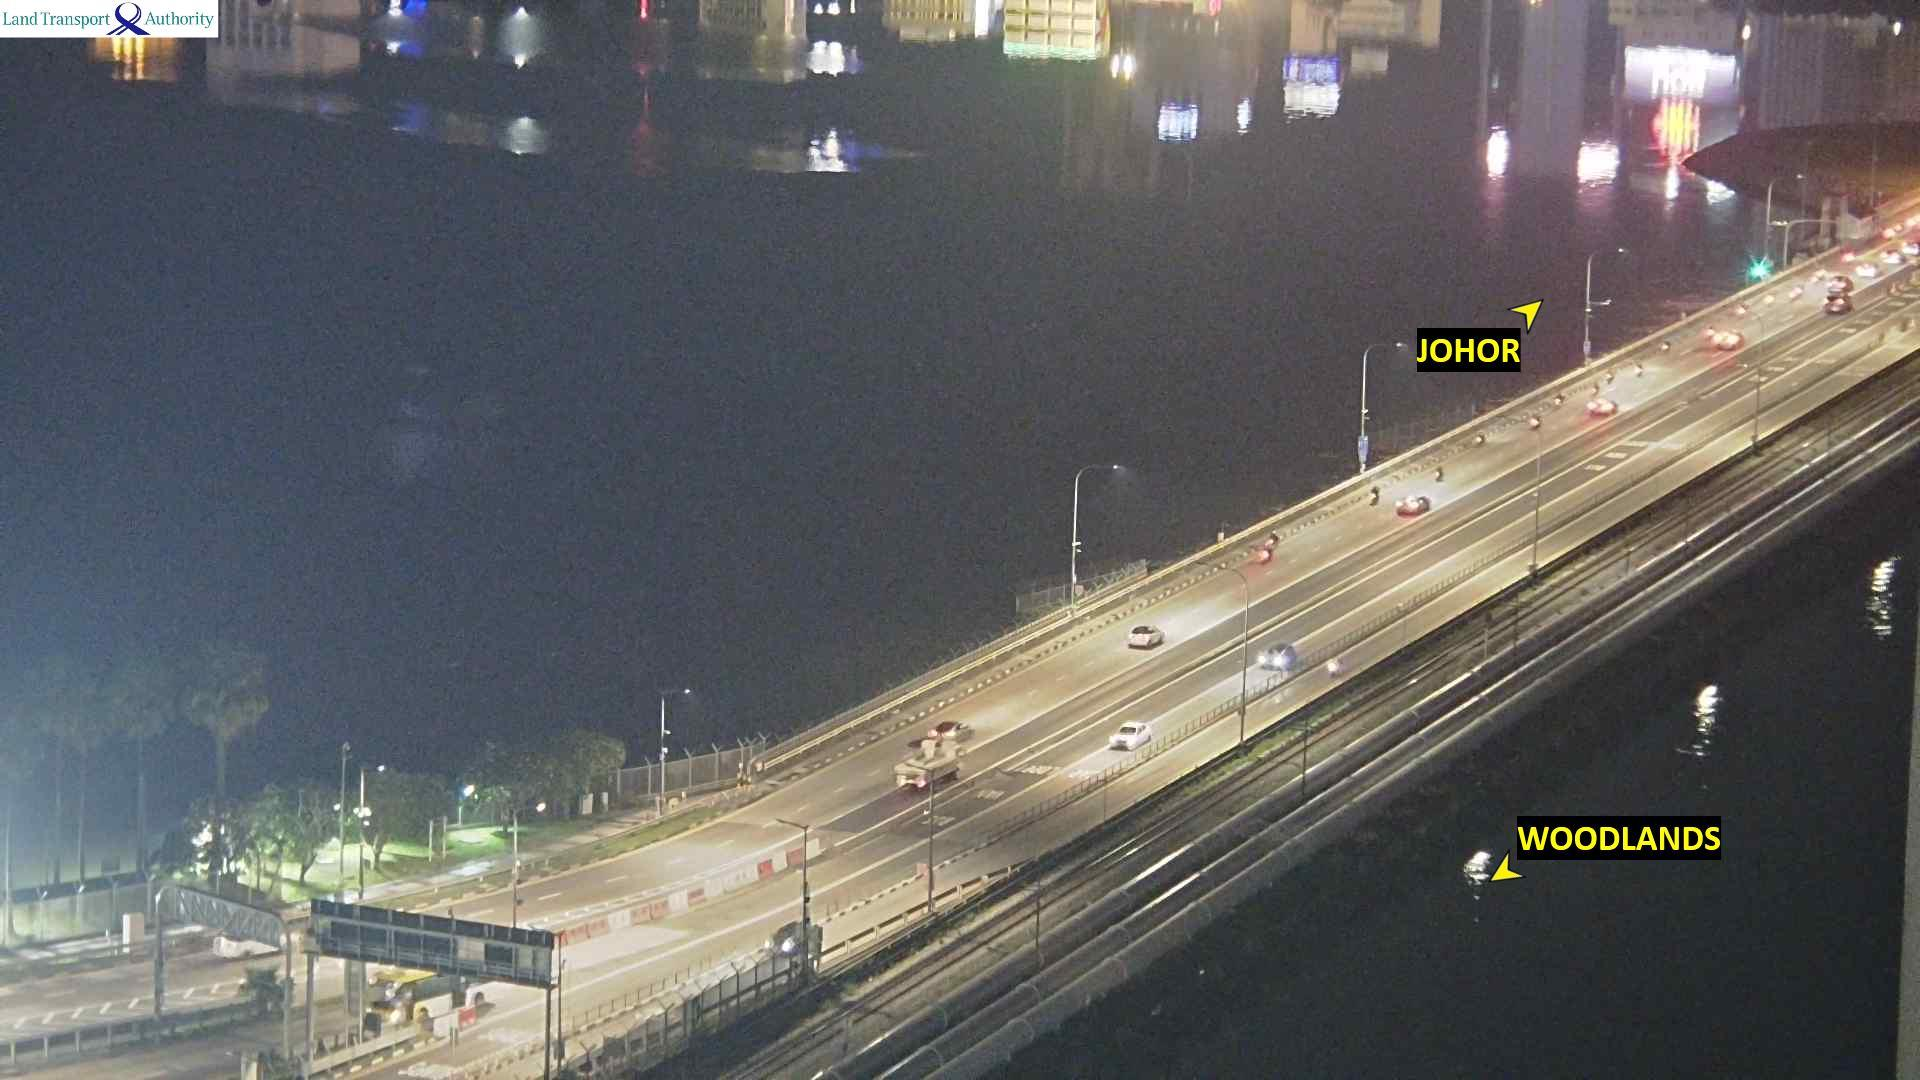vehicle-causeway-johor: (897, 744, 961, 788), (927, 717, 976, 742), (1130, 626, 1168, 652), (1714, 328, 1748, 352), (1391, 493, 1429, 514), (1822, 296, 1853, 314), (1587, 399, 1617, 417), (1260, 532, 1278, 561), (1853, 262, 1880, 278), (1879, 250, 1904, 265), (1829, 276, 1850, 292), (1473, 432, 1486, 446), (1369, 486, 1378, 506), (1660, 340, 1668, 358), (1590, 381, 1598, 396), (1637, 364, 1644, 379), (1534, 417, 1543, 428), (1606, 370, 1613, 384), (1436, 468, 1443, 479), (1555, 395, 1564, 403)
vehicle-causeway-singapore: (363, 968, 494, 1021), (1108, 720, 1152, 752), (1260, 642, 1294, 670)
